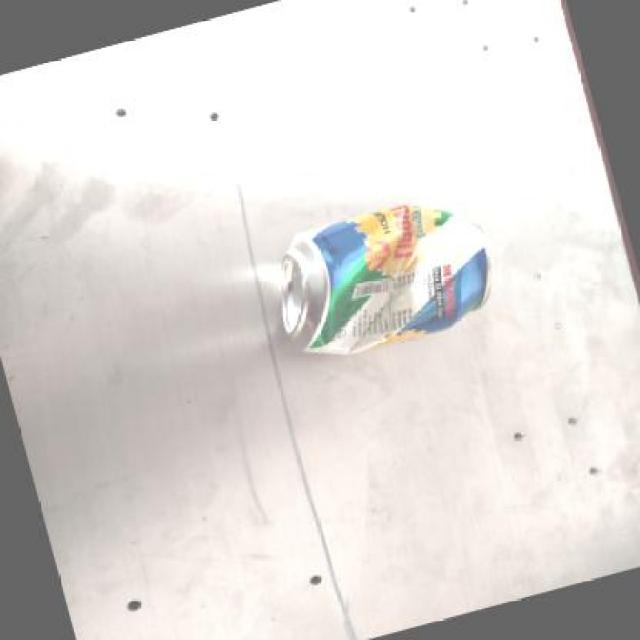recyclable: (233, 165, 522, 388)
